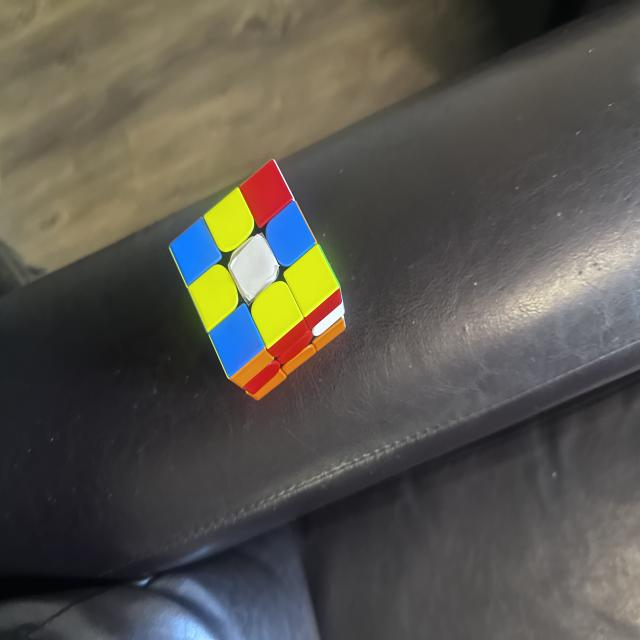sticker: (283, 244, 342, 331), (250, 281, 308, 362), (208, 302, 266, 381), (238, 158, 295, 231), (170, 215, 222, 285), (202, 186, 255, 254), (188, 263, 238, 332), (265, 201, 313, 268), (233, 247, 275, 290)
